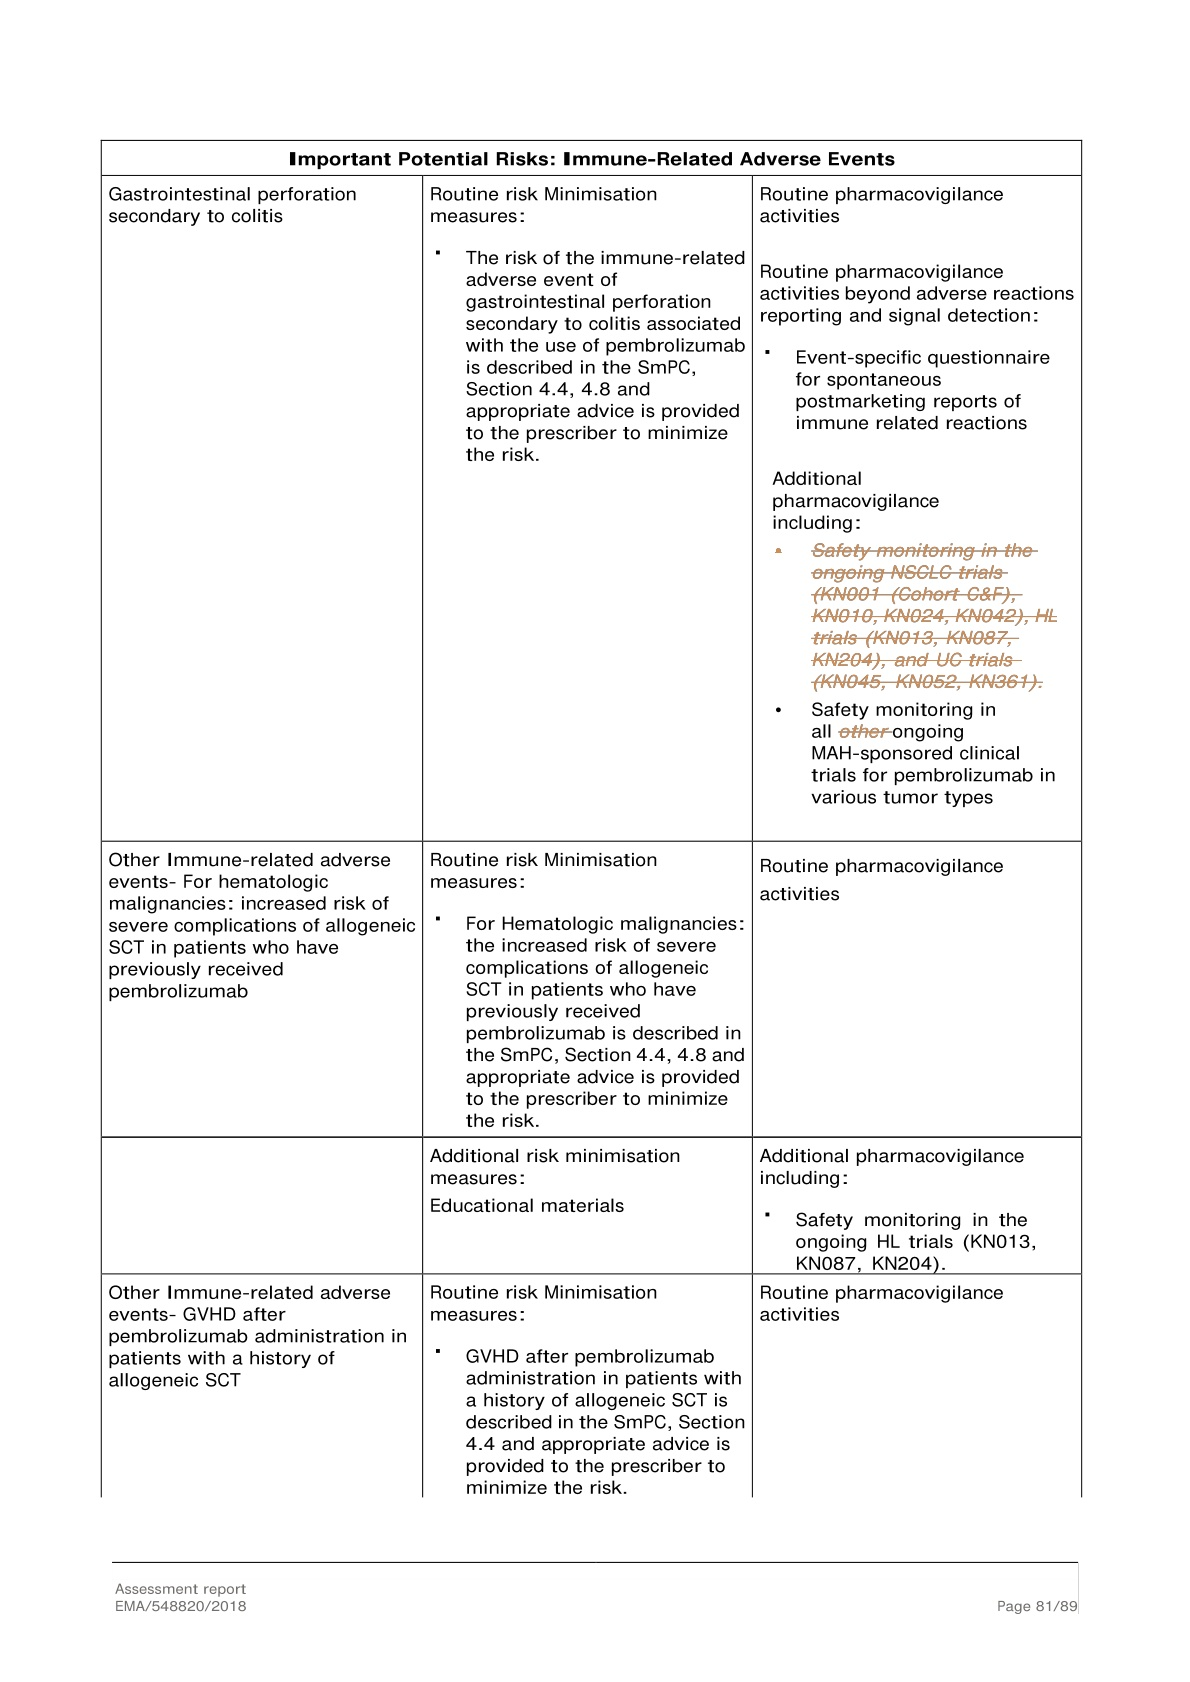partial_lined_merged_cells: (98, 137, 1084, 1504)
